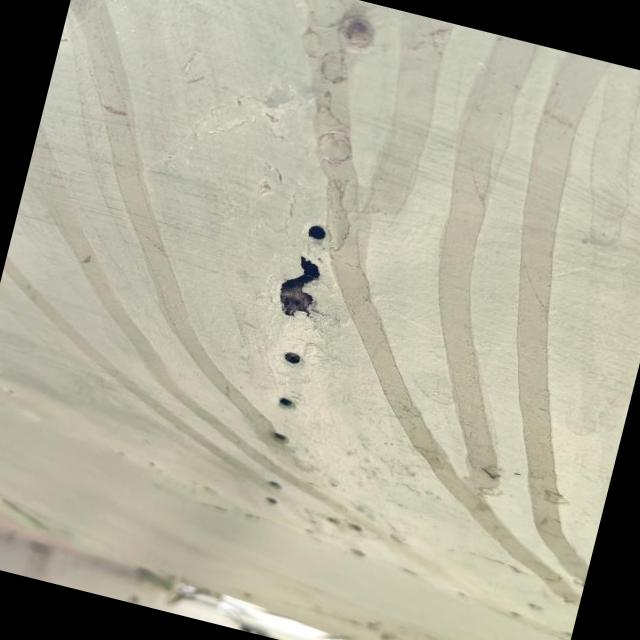Crack: (279, 257, 319, 317)
